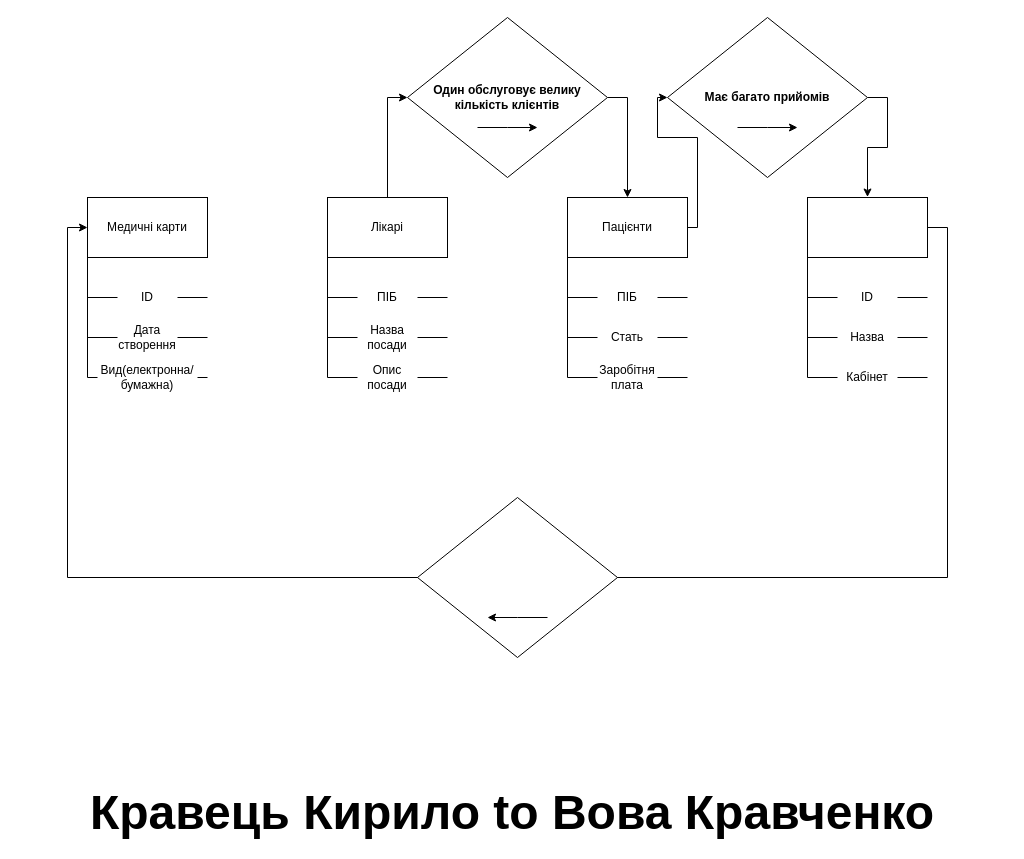
Image size: 1024x859. Some labels were removed from this diagram. The box of each missing label's shape, as (x1, y1, x2, y2) in pixels:
Запис у медичну картку: (416, 496, 618, 658)
Прийоми: (806, 196, 928, 258)
